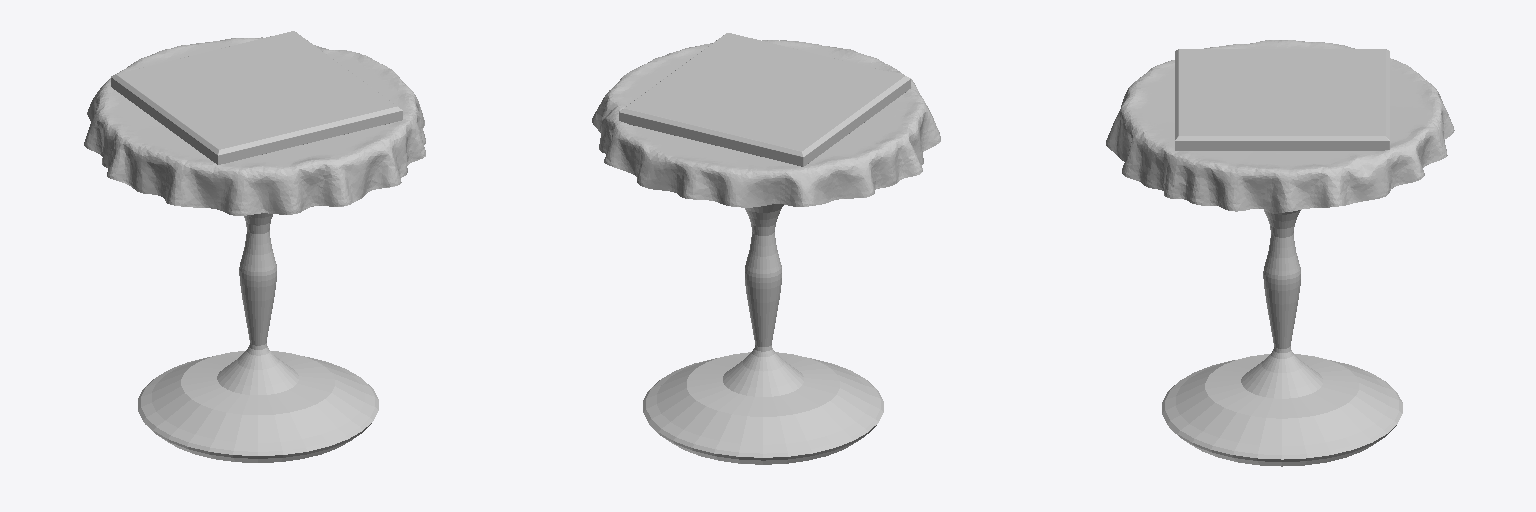
File: Board.obj
3 views of the same model, side by side, from view 1: azimuth 30°, elevation 25°; view 2: azimuth 150°, elevation 25°; view 3: azimuth 270°, elevation 25° (orthographic).
Visible parts, largest first — view 1: ChessBoard_TableCloth_000_Mesh.001, ChessBoard_TableBase_000_Mesh, ChessBoard_Board_000_Mesh.002; view 2: ChessBoard_TableBase_000_Mesh, ChessBoard_TableCloth_000_Mesh.001, ChessBoard_Board_000_Mesh.002; view 3: ChessBoard_TableCloth_000_Mesh.001, ChessBoard_TableBase_000_Mesh, ChessBoard_Board_000_Mesh.002.
Boxes of the visible parts, x1=… form: ChessBoard_TableCloth_000_Mesh.001: x1=84, y1=37, x2=425, y2=215; ChessBoard_TableBase_000_Mesh: x1=138, y1=213, x2=378, y2=462; ChessBoard_Board_000_Mesh.002: x1=111, y1=31, x2=402, y2=164; ChessBoard_TableBase_000_Mesh: x1=643, y1=204, x2=883, y2=464; ChessBoard_TableCloth_000_Mesh.001: x1=592, y1=40, x2=940, y2=207; ChessBoard_Board_000_Mesh.002: x1=619, y1=33, x2=910, y2=166; ChessBoard_TableCloth_000_Mesh.001: x1=1106, y1=40, x2=1454, y2=212; ChessBoard_TableBase_000_Mesh: x1=1162, y1=209, x2=1402, y2=466; ChessBoard_Board_000_Mesh.002: x1=1175, y1=49, x2=1389, y2=150.
Size of the model in its own units: 14.23 by 14.79 by 14.24.